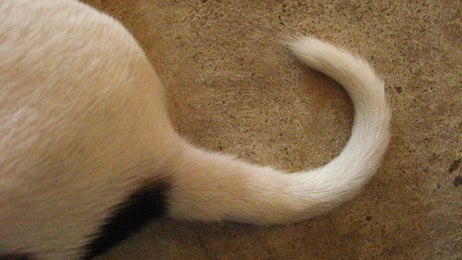tail: (147, 32, 397, 231)
